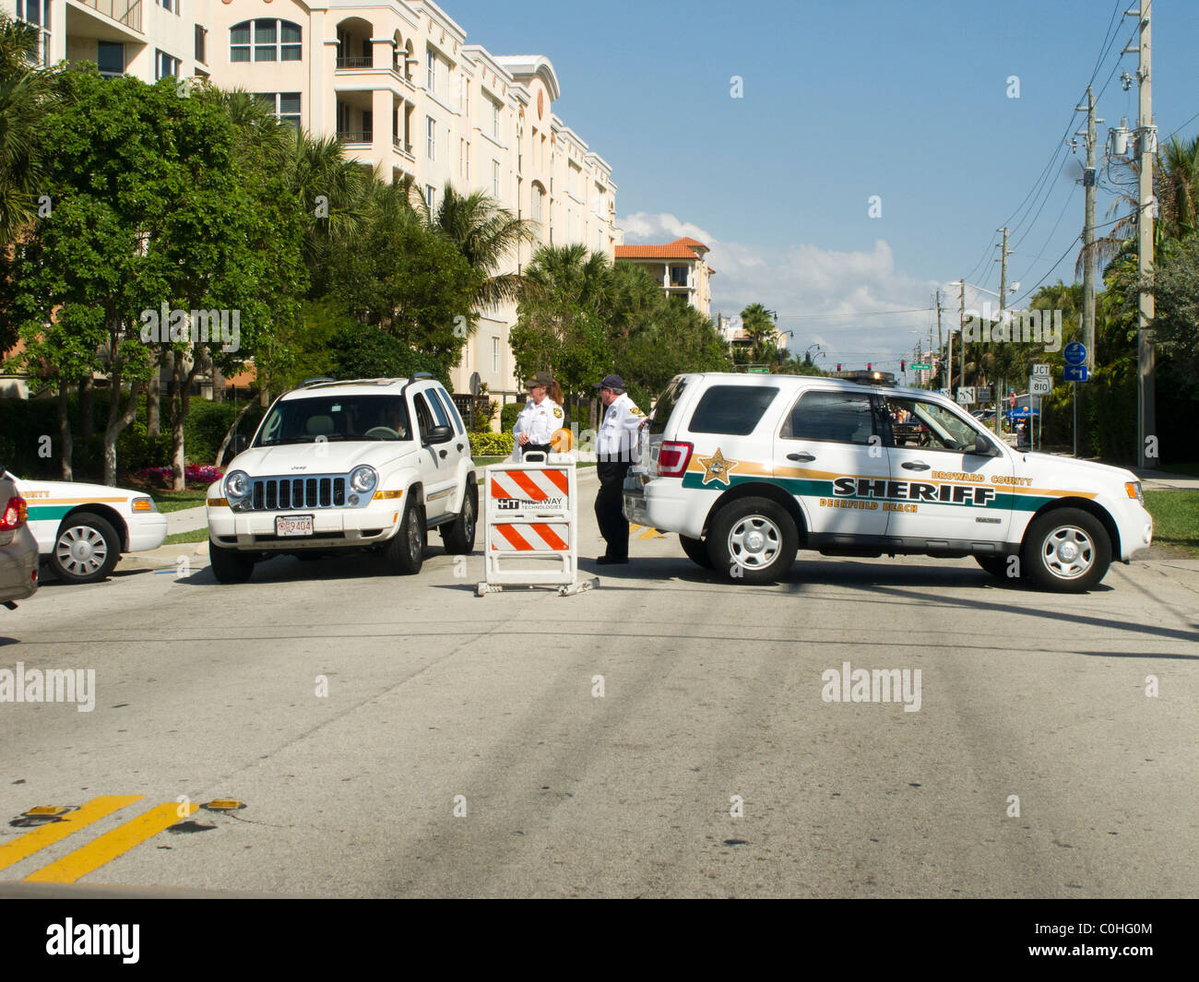Car: (639, 370, 1150, 609), (200, 376, 475, 574)
Person: (588, 364, 641, 569)
Tree: (1, 35, 186, 475)
